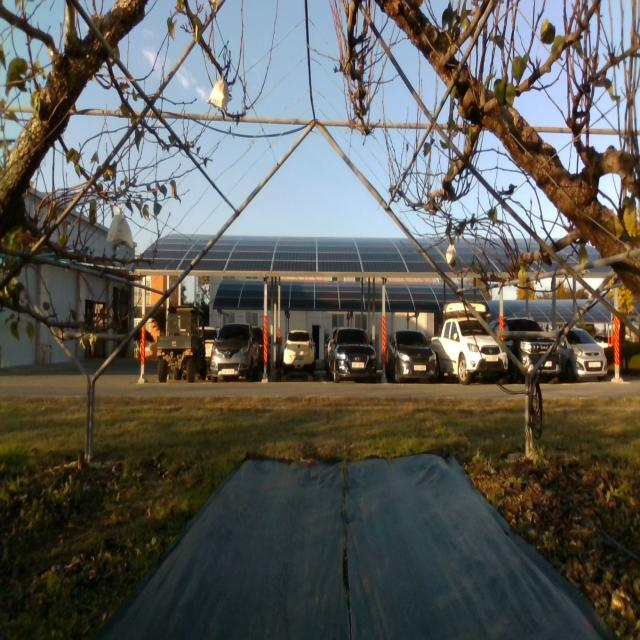pearbags: (107, 215, 134, 249), (207, 78, 229, 112), (446, 243, 457, 265)
